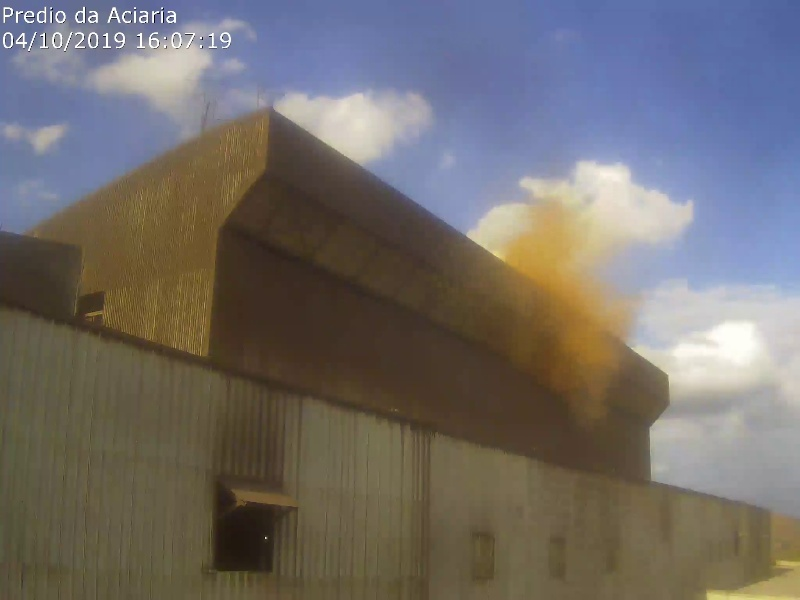bom: (1, 1, 462, 248), (463, 1, 796, 185)
pessimo: (498, 192, 656, 431)
